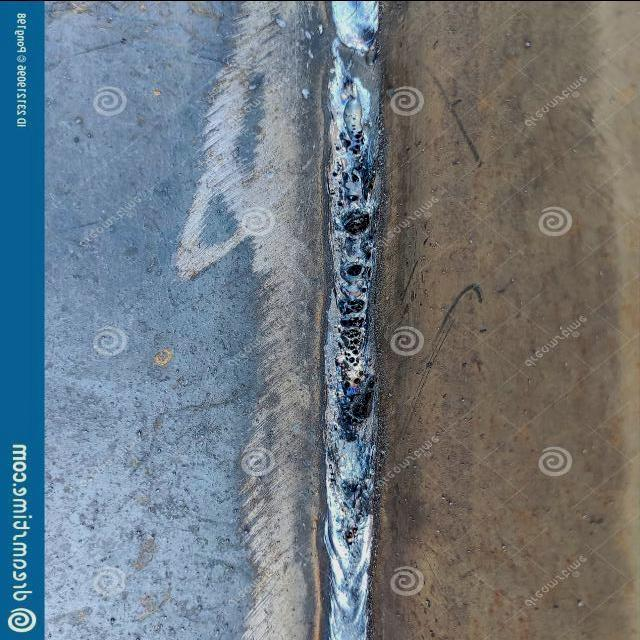defect: (331, 248, 382, 429), (328, 111, 380, 208), (340, 207, 372, 238), (339, 523, 365, 547)
